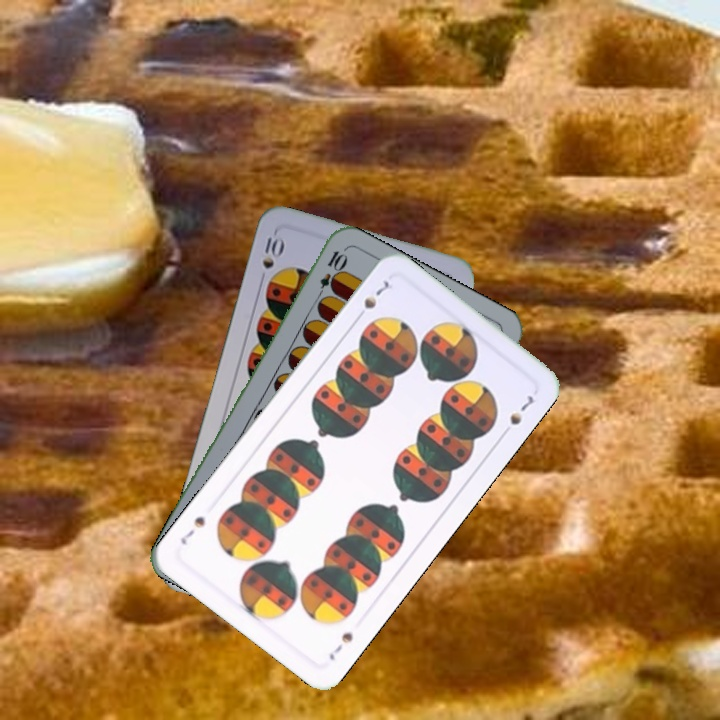E10: (312, 246, 348, 303)
S10: (255, 233, 286, 287)
S7: (351, 277, 392, 324), (324, 628, 356, 663)
